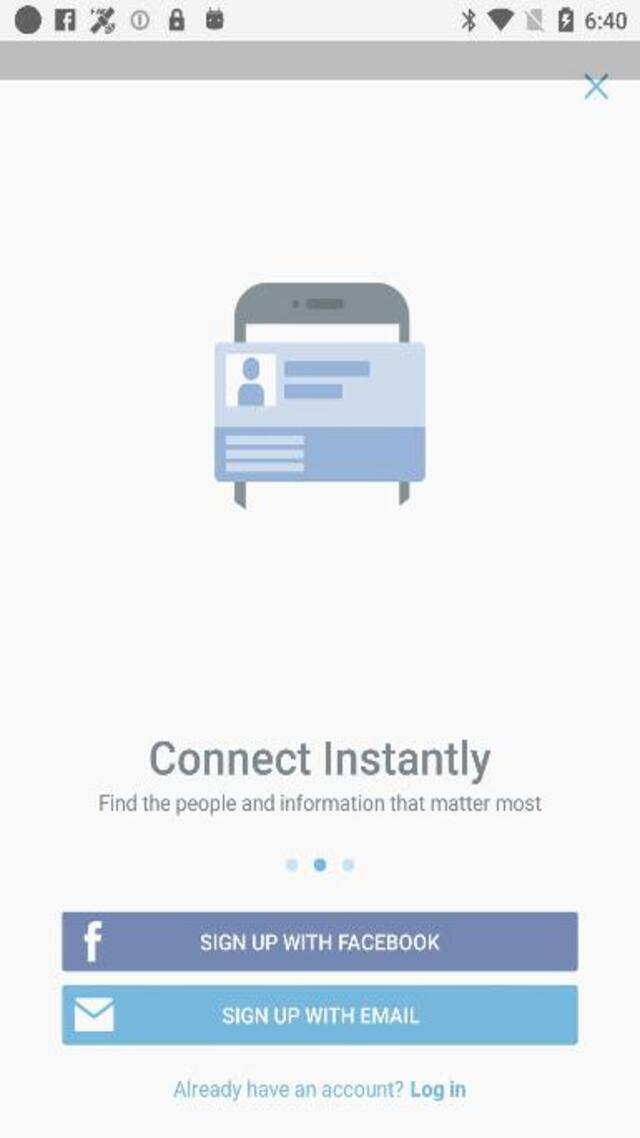Icon: (73, 996, 117, 1032), (77, 920, 104, 964), (586, 74, 608, 100)
Image: (213, 282, 424, 510)
Text: (150, 738, 492, 784), (100, 793, 542, 814), (198, 930, 444, 954), (173, 1080, 464, 1100), (217, 1006, 423, 1026)
TextButton: (61, 910, 576, 970), (61, 984, 576, 1044)
